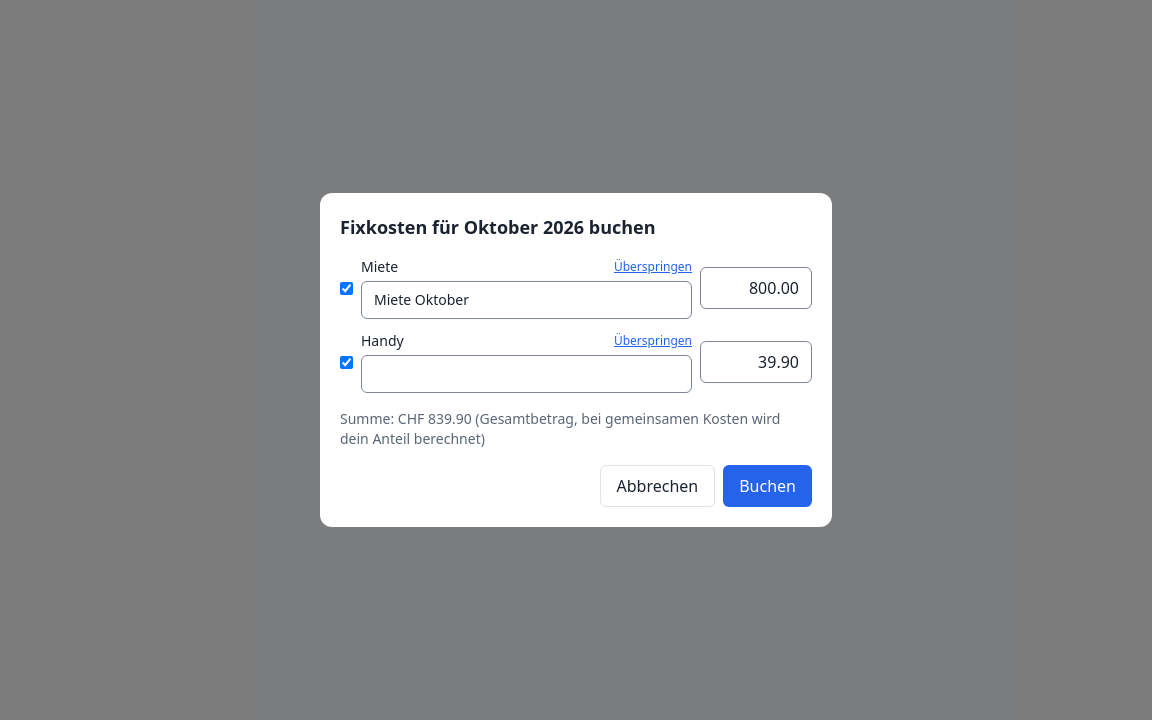
Test case: BookTemplatesDialog › ungültiger Betrag «0» wird gemeldet, nichts gebucht
The width and height of the screenshot is (1152, 720).
Replace the text in the field named "Betrag Handy" with "0" at x=756, y=362, box [700,341,812,383]
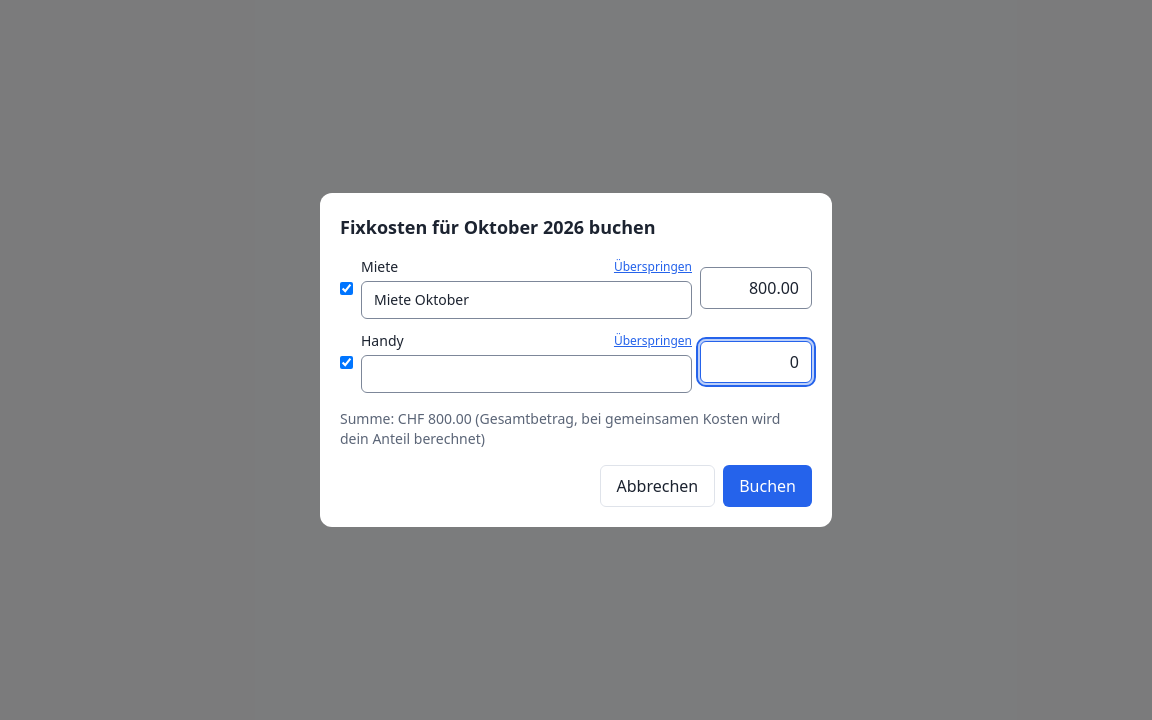
Click the button "Buchen" at x=768, y=486, box [723,465,812,507]
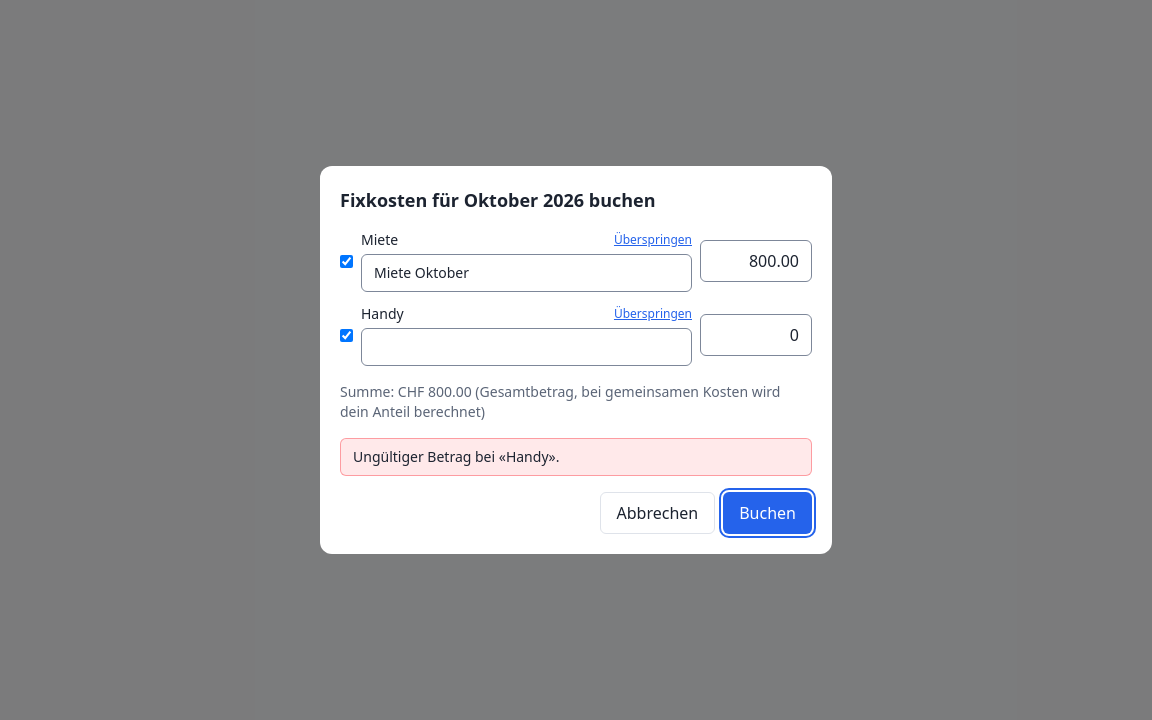
Result: the message shows "Ungültiger Betrag bei «Handy»" at [353,447,559,466]
